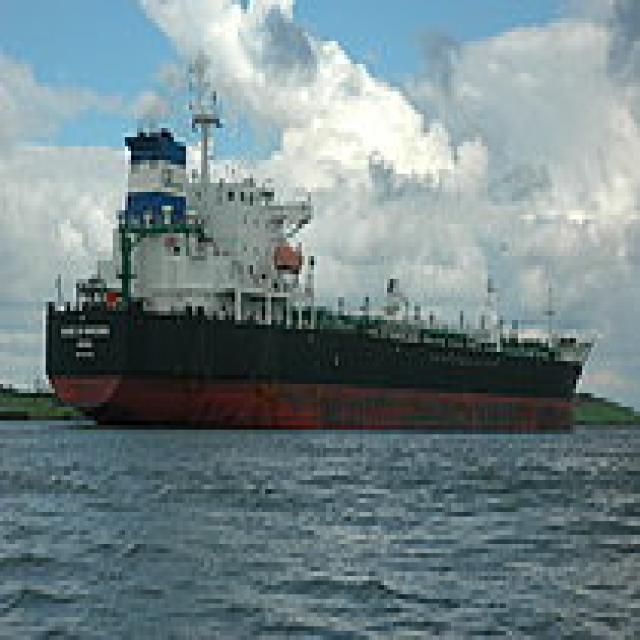Tanker: (40, 78, 591, 425)
